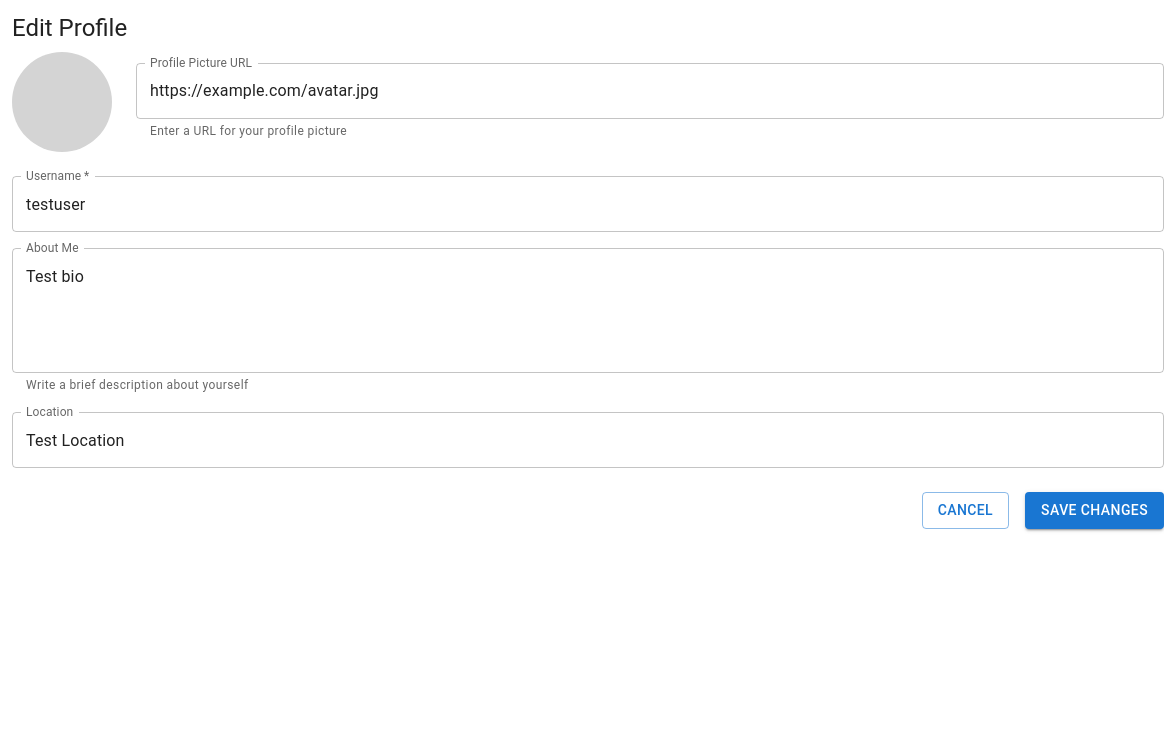
Test: ProfileEdit Component › shows loading state during submission
Click the button "Save Changes" at (1095, 511), box [1025,492,1164,529]
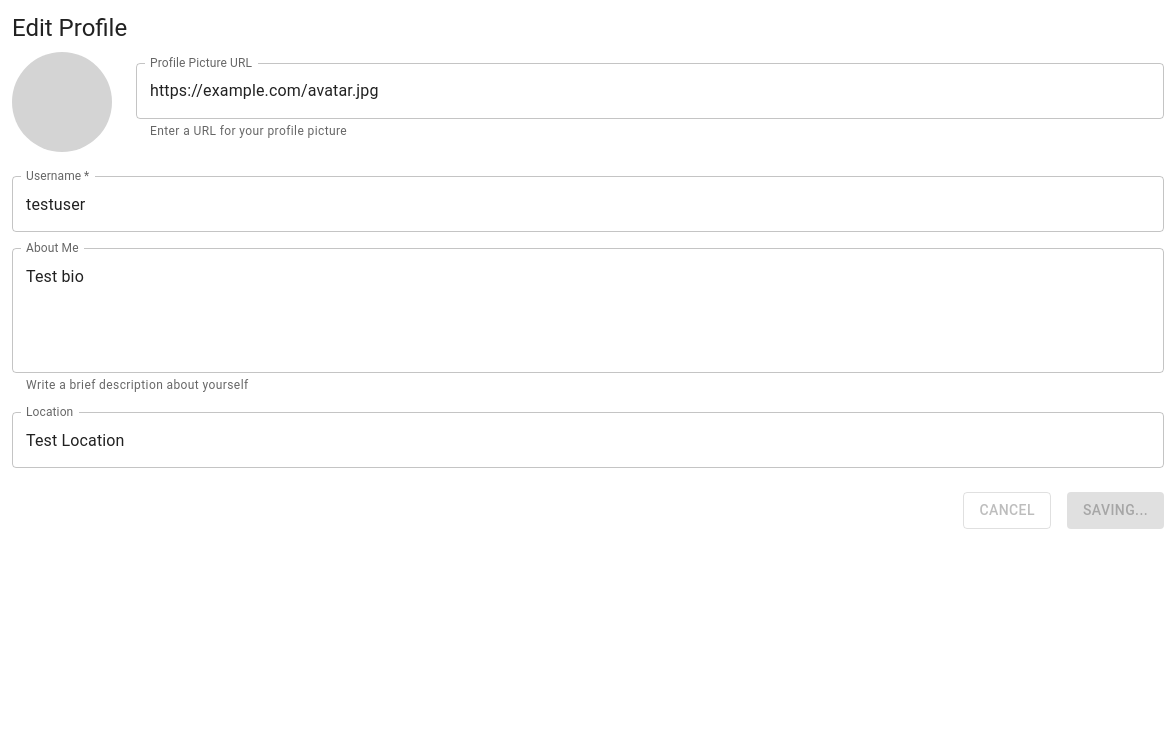
Result: the button named "save" is disabled at [1067,492,1164,529]
